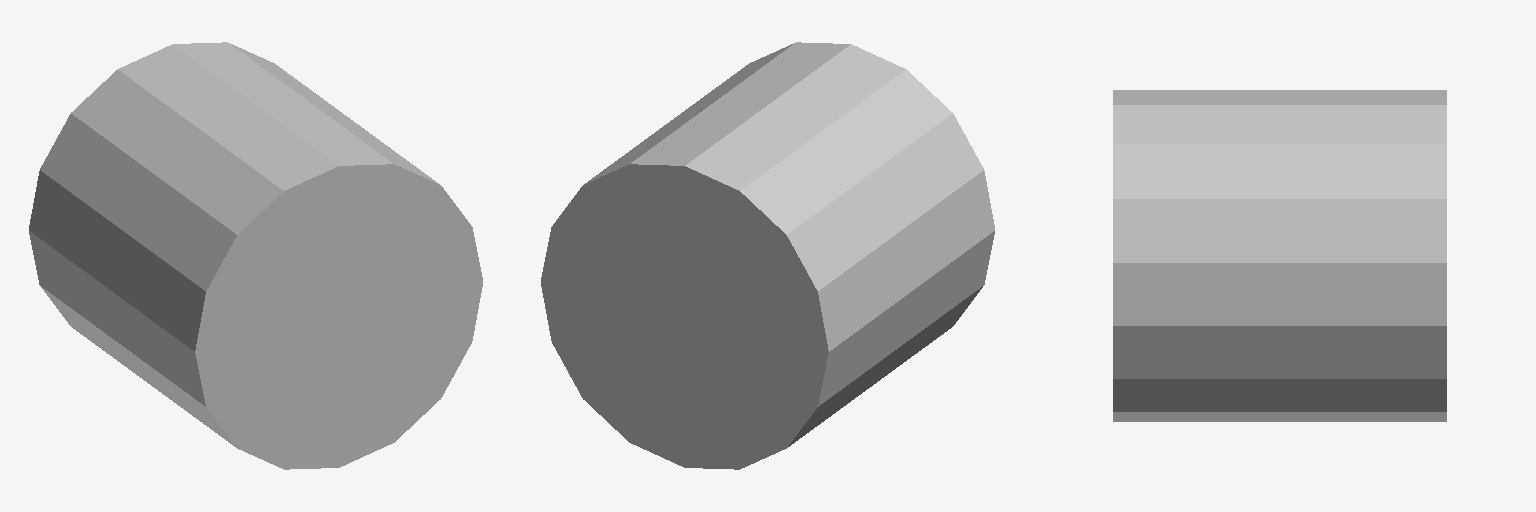
The model's file is Licht.obj.
3 views of the same model, side by side, from view 1: azimuth 30°, elevation 25°; view 2: azimuth 150°, elevation 25°; view 3: azimuth 270°, elevation 25° (orthographic).
Visible parts, largest first — view 1: Obj_fromNurbs#3; view 2: Obj_fromNurbs#2; view 3: none.
Boxes of the visible parts, <box> form: Obj_fromNurbs#3: <box>195,164,482,469</box>; Obj_fromNurbs#2: <box>541,164,828,469</box>.
Size of the model in its own units: 5.24 by 5.24 by 5.24.